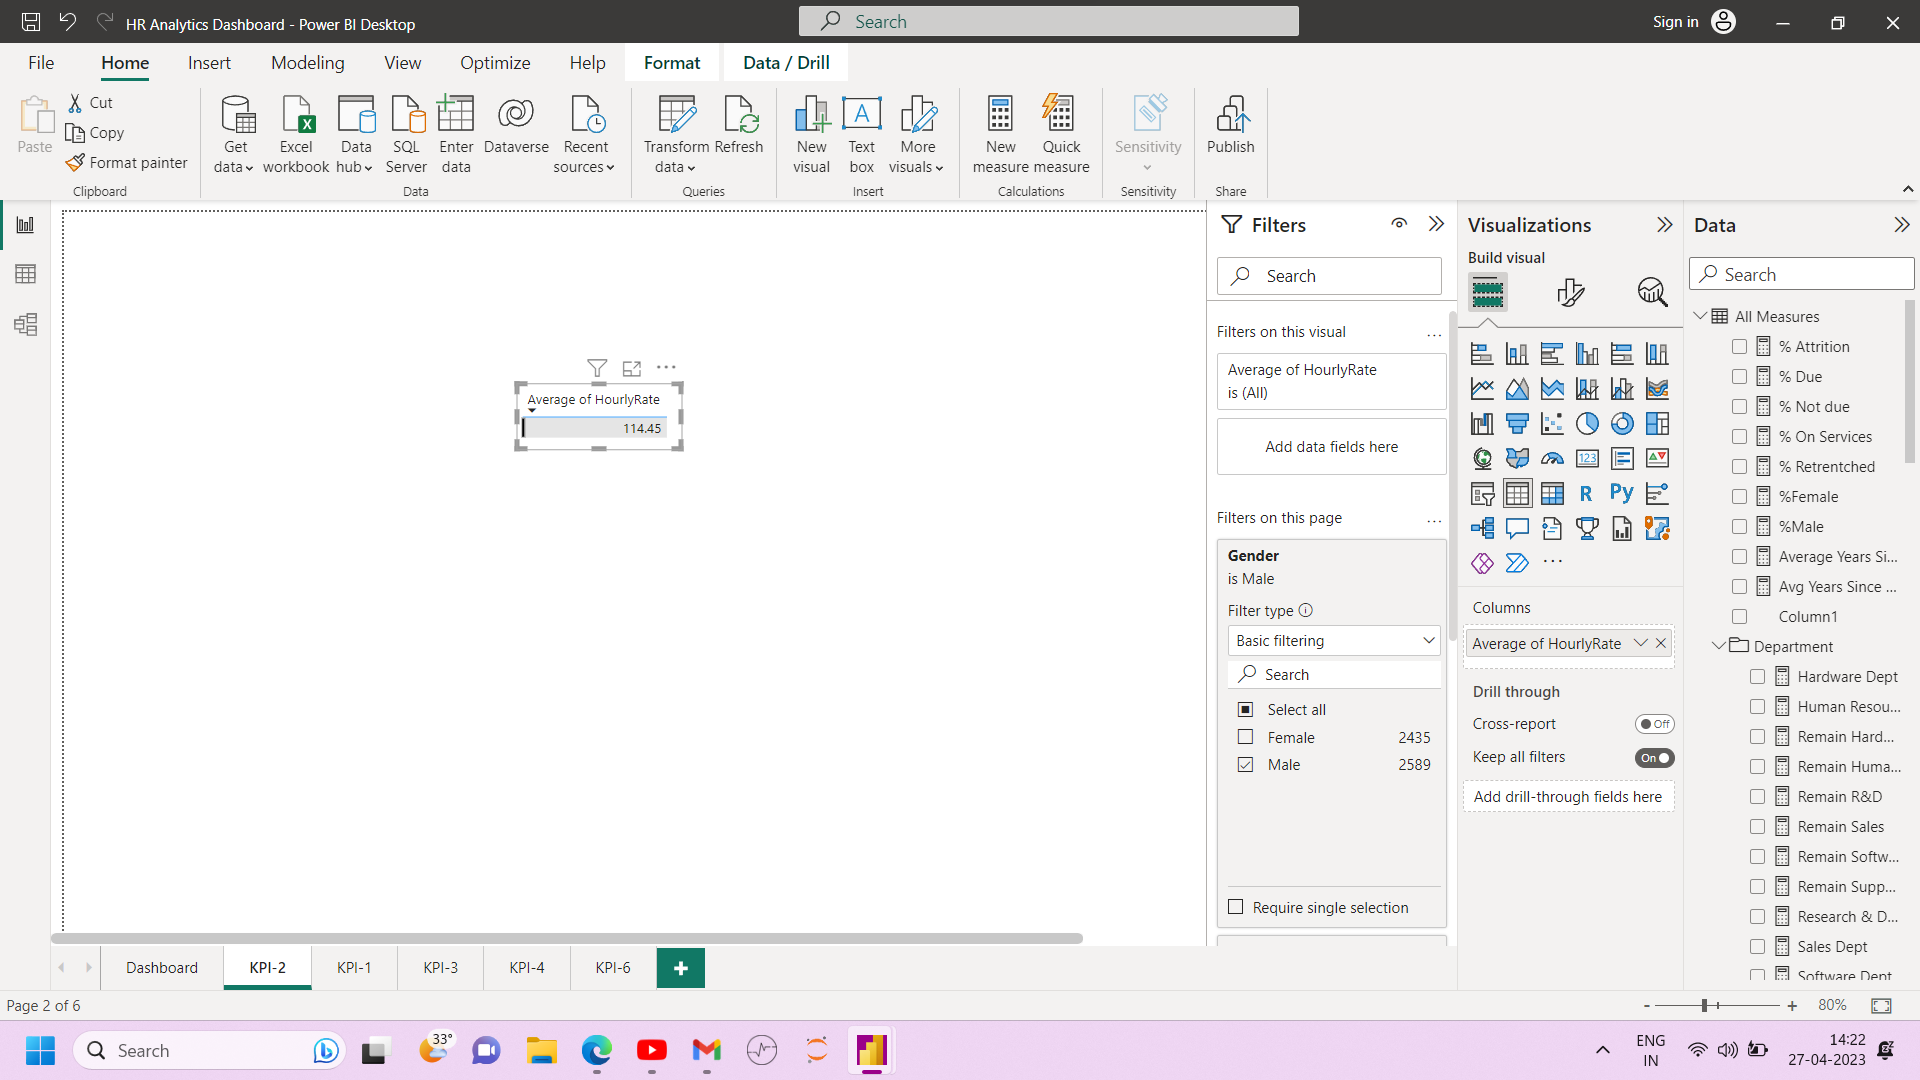

The page's visual inventory and layout, read from the dashboard file:
{"tool":"powerbi","page":{"name":"KPI-2","canvas":[1280,720],"ordinal":1},"visuals":[{"type":"tableEx","title":"Average Hourly rate of Male Research Scientist","fields":{"Values":["Avg(Merge1.HourlyRate)"]},"box":[452.5,171.2,228.8,108.8],"z":0}]}

Visuals, with their boxes on the page's 1280x720 design canvas (x1, y1, x2, y2). These are canvas units, not pixel positions in the 1920x1080 screenshot, which may show the page scaled, cropped or inside an application window:
"Average Hourly rate of Male Research Scientist" tableEx: x1=452, y1=171, x2=681, y2=280
